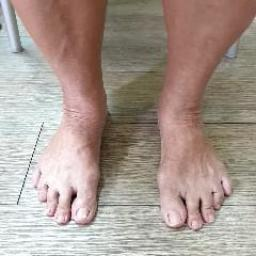Dorsal View -Both Feet-: (20, 58, 246, 241)
